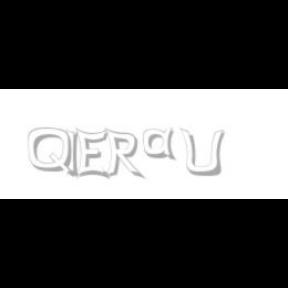E: (75, 128, 108, 180)
Q: (28, 128, 74, 178)
R: (104, 128, 142, 180)
U: (180, 128, 224, 178)
a: (144, 128, 180, 160)
l: (66, 128, 82, 180)
